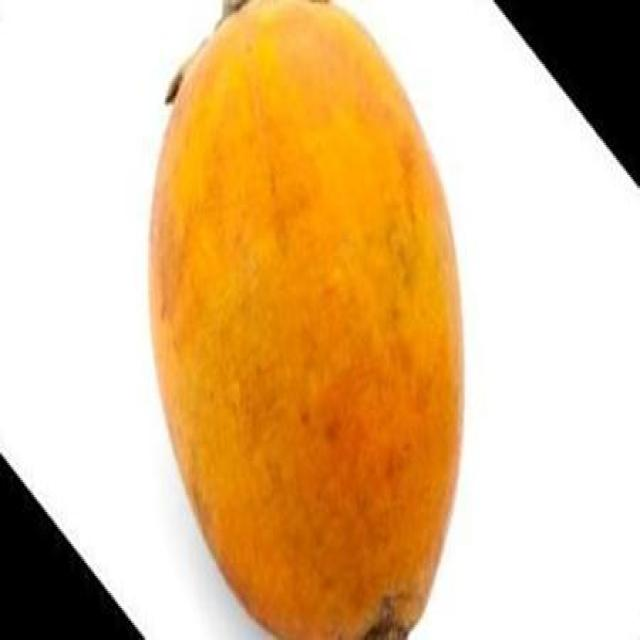good: (145, 0, 466, 638)
